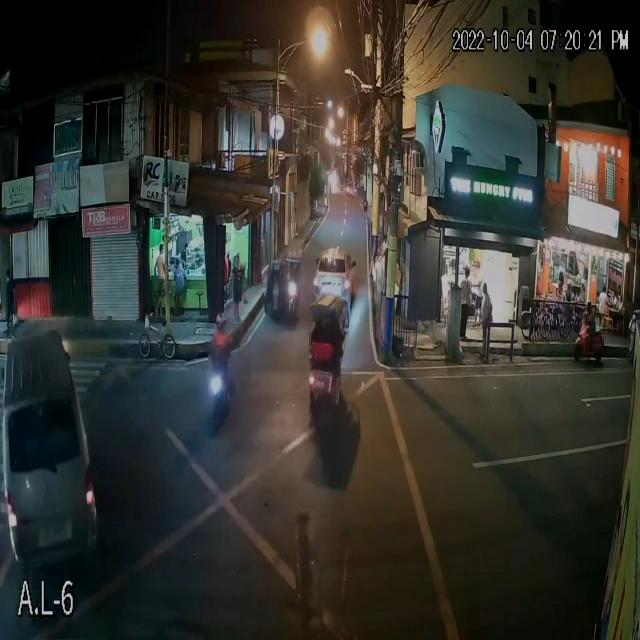Full-Faced: (213, 306, 228, 332)
